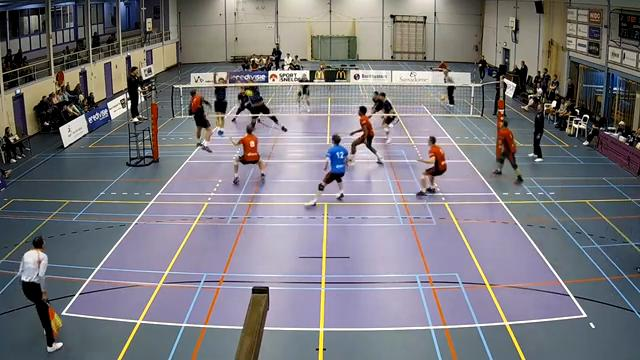Attack: (181, 88, 219, 155)
Block: (235, 71, 289, 136), (208, 68, 229, 140)
Player: (306, 134, 347, 205), (230, 125, 264, 184), (348, 106, 382, 163), (493, 120, 522, 183), (416, 136, 446, 195), (372, 92, 396, 143), (231, 88, 250, 122), (297, 74, 310, 112), (371, 91, 381, 112)
ball: (244, 89, 256, 98)
